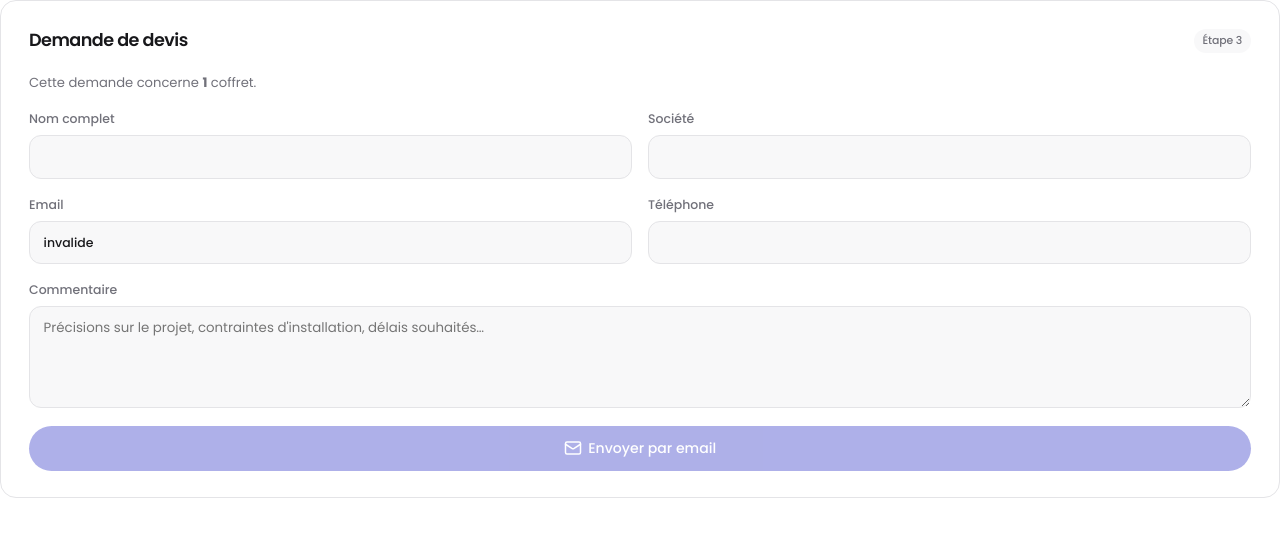
it: ContactForm › affiche une erreur email après blur sur une adresse invalide
The image size is (1280, 544).
Click the field labelled "Email".
click(330, 242)  # box [29,220,632,264]
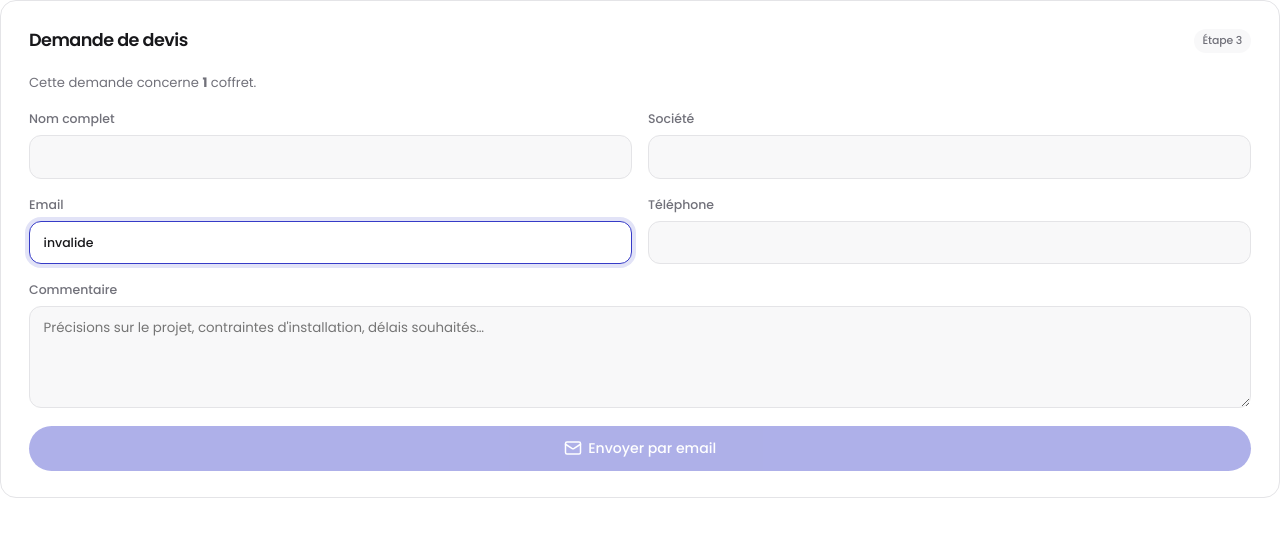
Press Tab
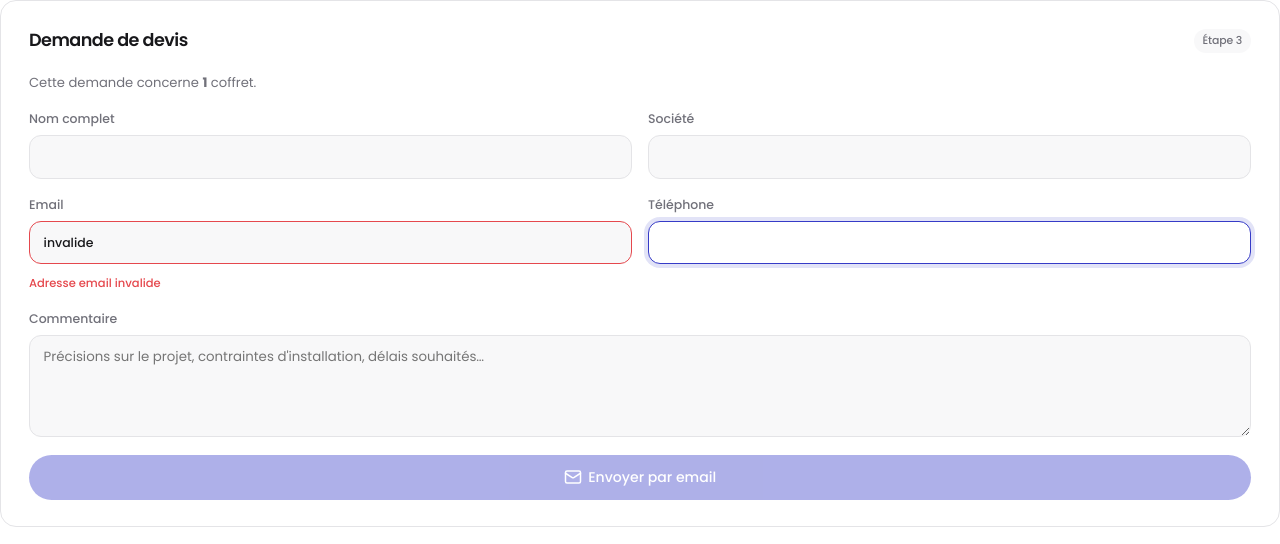
Expected: the text "Adresse email invalide" is shown, [29,275,161,291]
